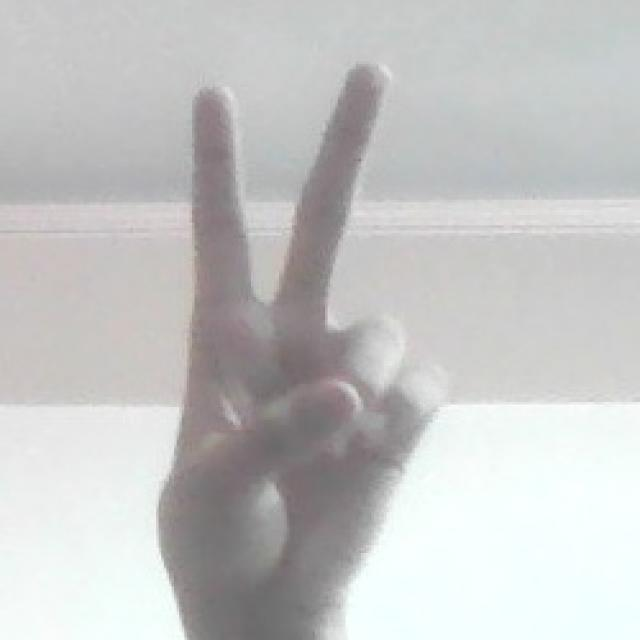Numeric-2: (173, 57, 443, 592)
